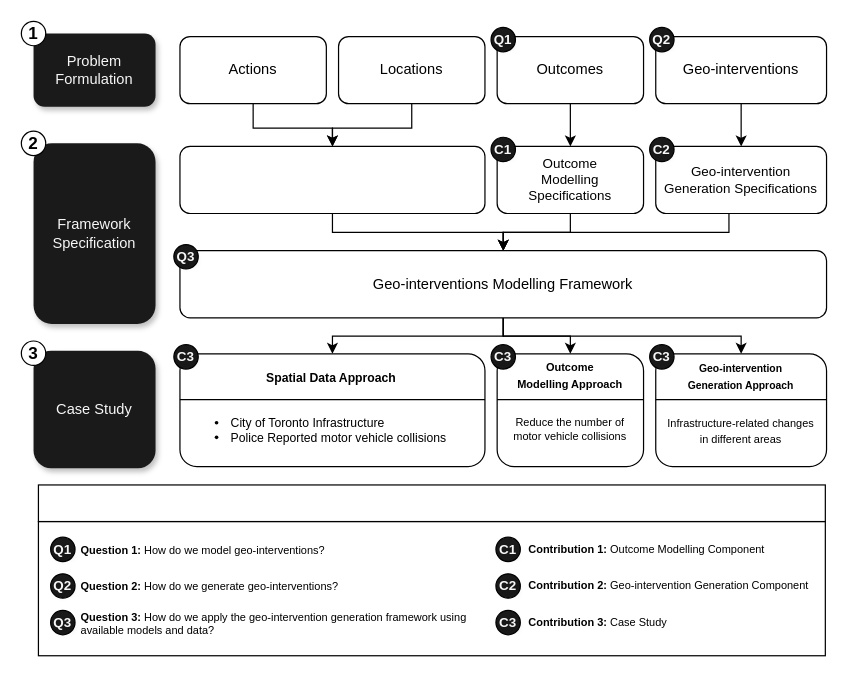
Image size: 853x677. Some labels were removed from this diagram. The centre of each missing label's shape, as x and y in pixels:
Research Questions and Contributions: [431,503]
Spatial Data Specifications: [332,179]
